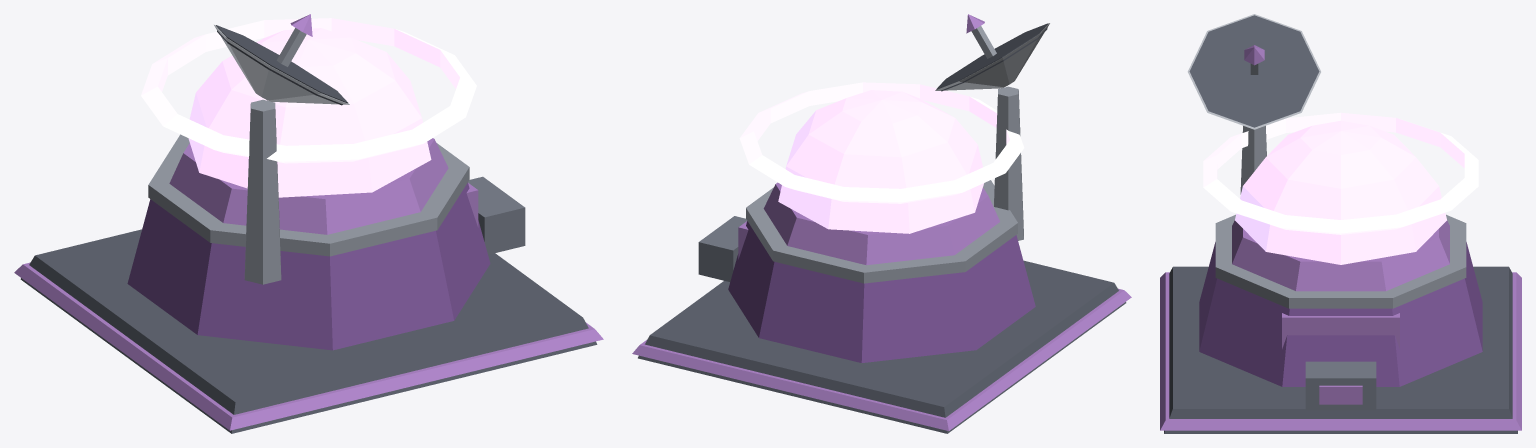
File: research_lab.glb
The picture shows the model from 3 angles, left to right: view 1: azimuth 30°, elevation 25°; view 2: azimuth 150°, elevation 25°; view 3: azimuth 270°, elevation 25°; orthographic projection. The views are drawn at different scales.
Visible parts, largest first — view 1: Body, GlowDome, GlowRing, DishMesh; view 2: Body, GlowDome, GlowRing, DishMesh; view 3: Body, GlowDome, DishMesh, GlowRing.
Part boxes in pixels (<box>): Body: <box>14,99,603,433</box>; GlowDome: <box>188,28,431,197</box>; GlowRing: <box>141,18,476,163</box>; DishMesh: <box>214,14,349,105</box>; Body: <box>632,86,1131,433</box>; GlowDome: <box>778,90,983,233</box>; GlowRing: <box>739,82,1024,203</box>; DishMesh: <box>935,14,1049,91</box>; Body: <box>1160,126,1521,433</box>; GlowDome: <box>1235,120,1446,264</box>; DishMesh: <box>1187,14,1320,129</box>; GlowRing: <box>1203,112,1478,234</box>.
Bounding box in the file's own units: 0.948 × 0.8179 × 0.92.
